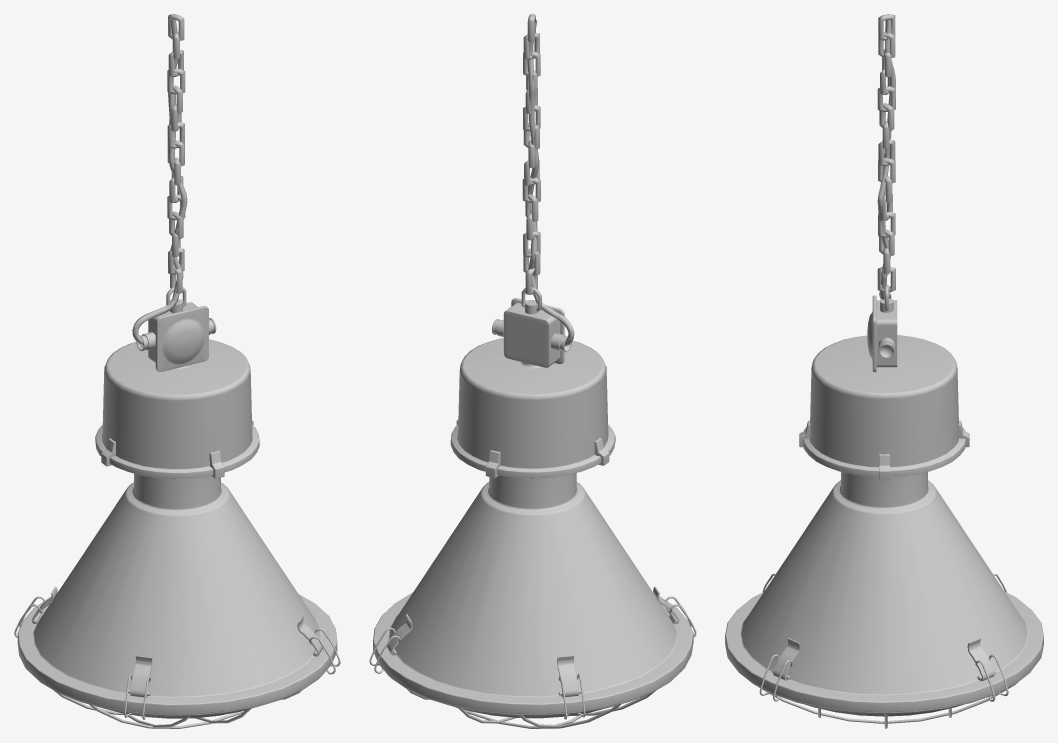
Rendered from sm_Lamp_02_01.fbx.
3 renders of one model, left to right at view 1: azimuth 30°, elevation 25°; view 2: azimuth 150°, elevation 25°; view 3: azimuth 270°, elevation 25°, orthographic.
Parts seen in each view (by area): view 1: sm_Lamp_02_01_LOD0; view 2: sm_Lamp_02_01_LOD0; view 3: sm_Lamp_02_01_LOD0.
Part boxes in pixels (box(x1,y1,x2,y2)): sm_Lamp_02_01_LOD0: box(14, 14, 340, 728); sm_Lamp_02_01_LOD0: box(369, 14, 696, 728); sm_Lamp_02_01_LOD0: box(725, 14, 1043, 728).
Bounding box in the file's own units: 43.91 × 43.91 × 105.
